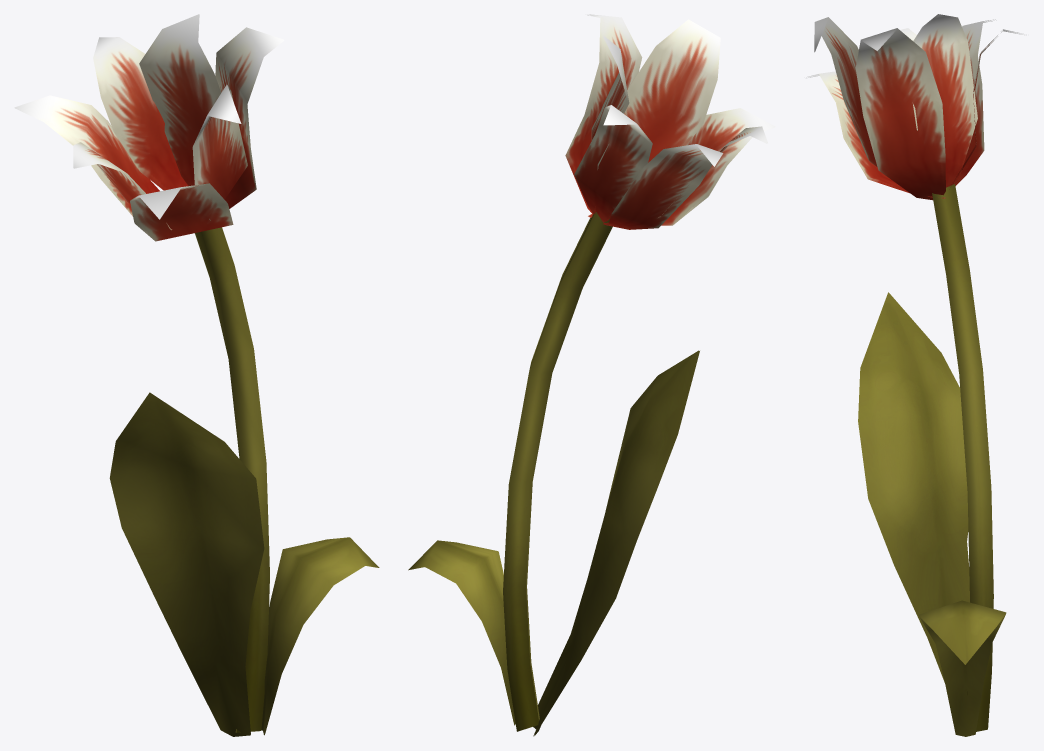
File: Flower_12_01.fbx
The picture shows the model from 3 angles, left to right: view 1: azimuth 30°, elevation 25°; view 2: azimuth 150°, elevation 25°; view 3: azimuth 270°, elevation 25°; orthographic projection. The views are drawn at different scales.
Parts seen in each view (by area): view 1: Flower_12_01; view 2: Flower_12_01; view 3: Flower_12_01.
Boxes of the visible parts, <box> form: Flower_12_01: <box>14,14,379,736</box>; Flower_12_01: <box>408,14,775,736</box>; Flower_12_01: <box>806,14,1026,736</box>.
Bounding box in the file's own units: 39.12 × 23.91 × 80.4.
